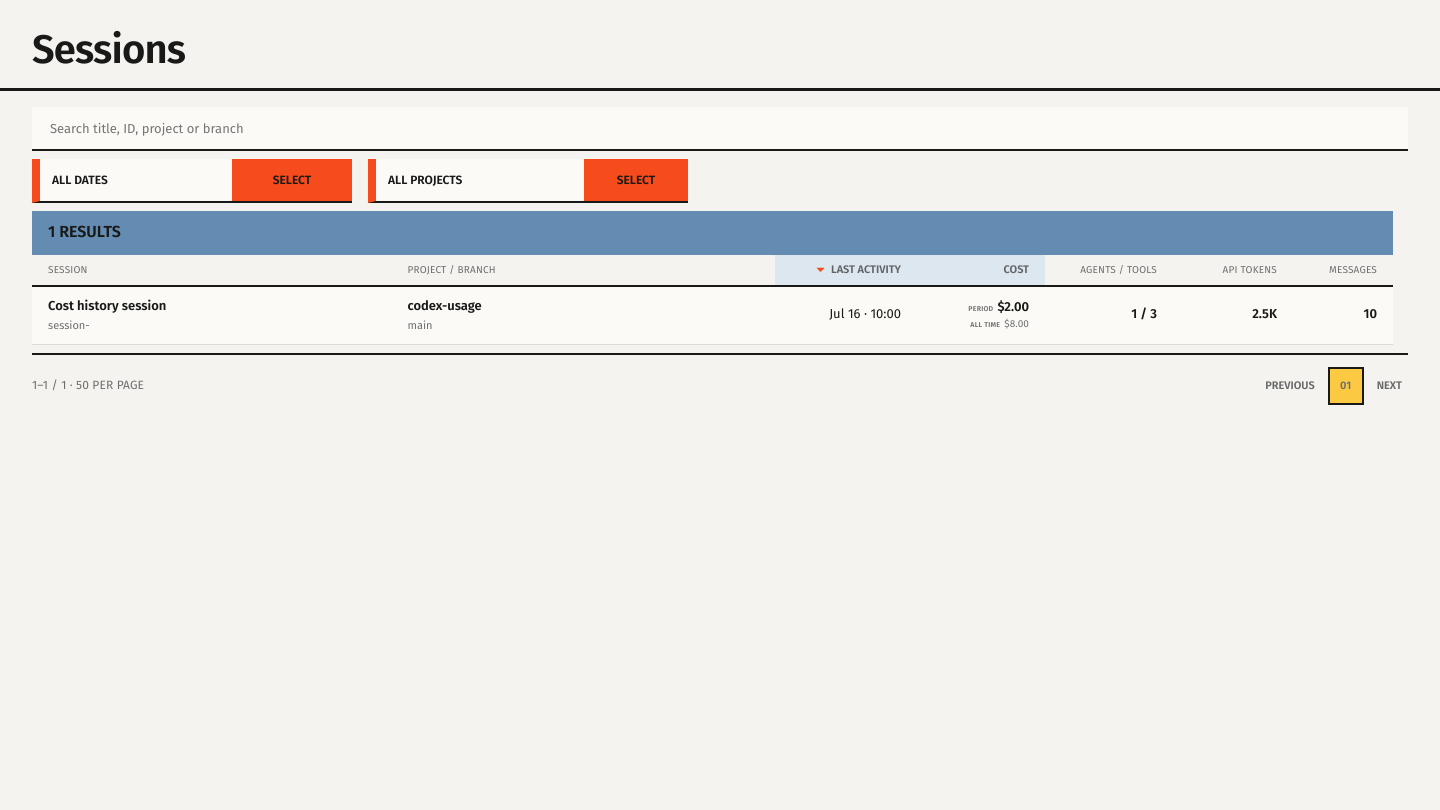
it: SessionsPage cost history › retains successful project choices while replacement rows are loading
This screenshot has width=1440, height=810.
Step 1. Click the button "COST" → (981, 270), box [917,255,1045,285]
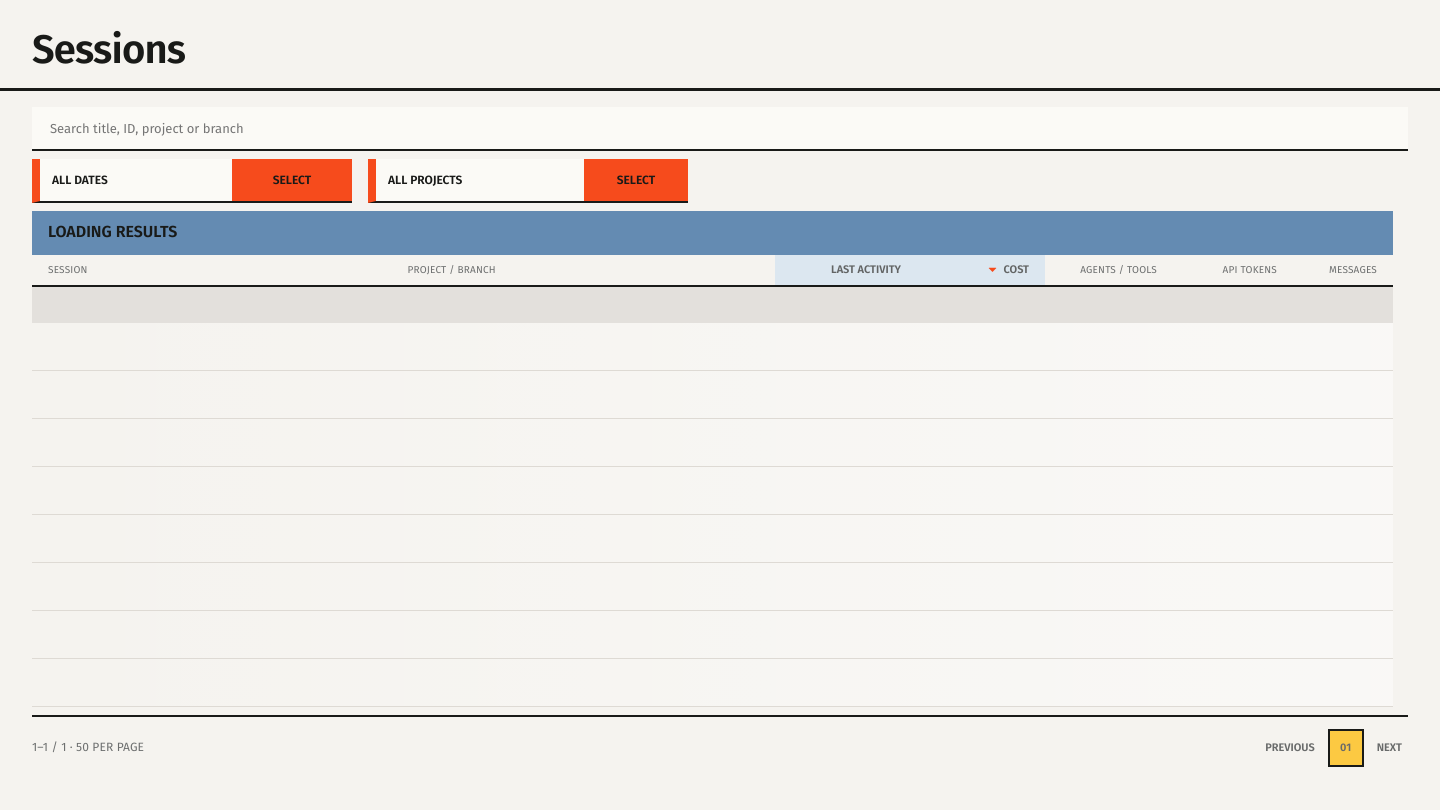
Check: the text "Cost history session" is gone
Step 2. Click the button "ALL PROJECTS SELECT" → (425, 180), box [368,159,688,203]
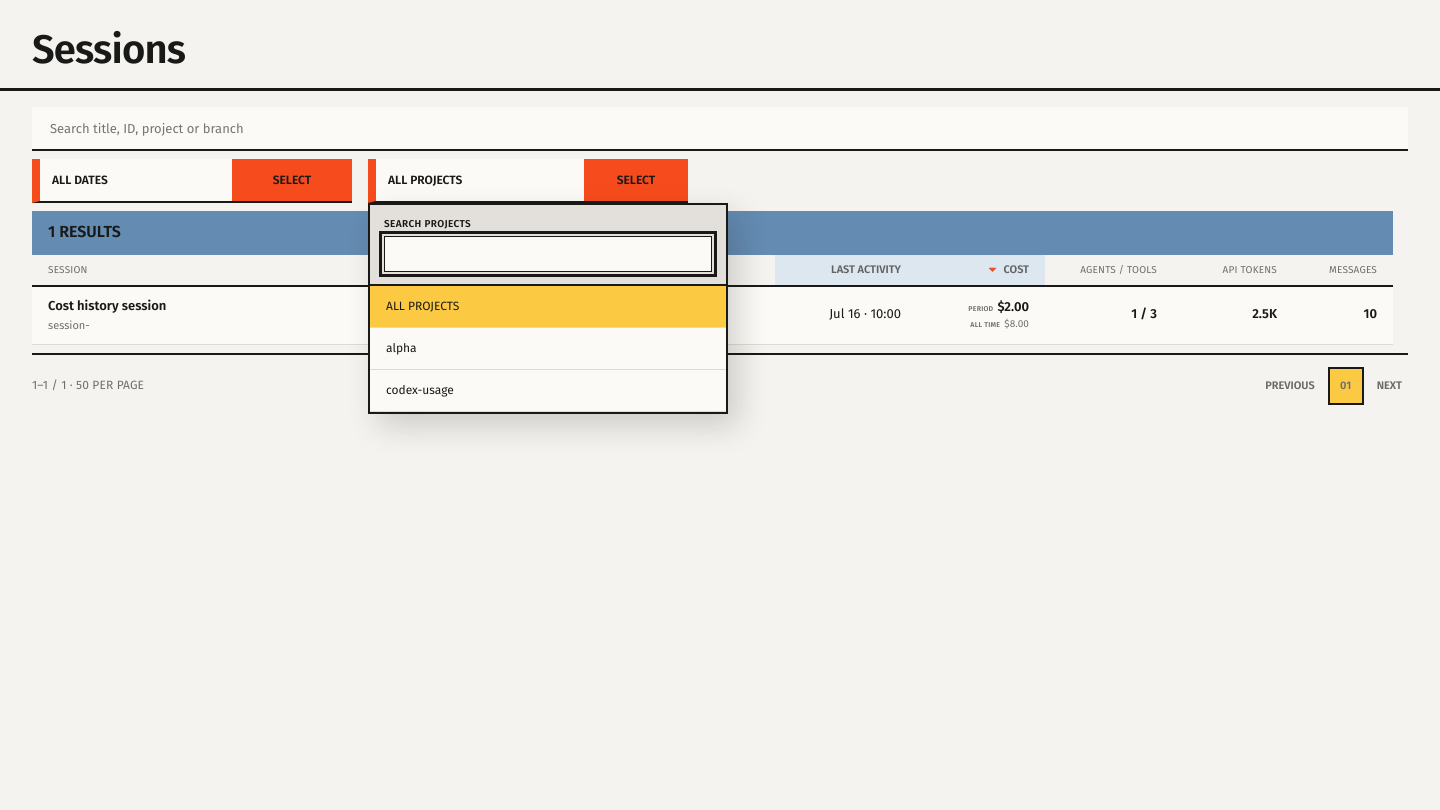
Check: the option "alpha" is shown, box [370,328,726,370]
Check: the option "codex-usage" is shown, box [370,370,726,412]
Check: the link named "Cost history session" is shown, box [34,289,1391,342]
